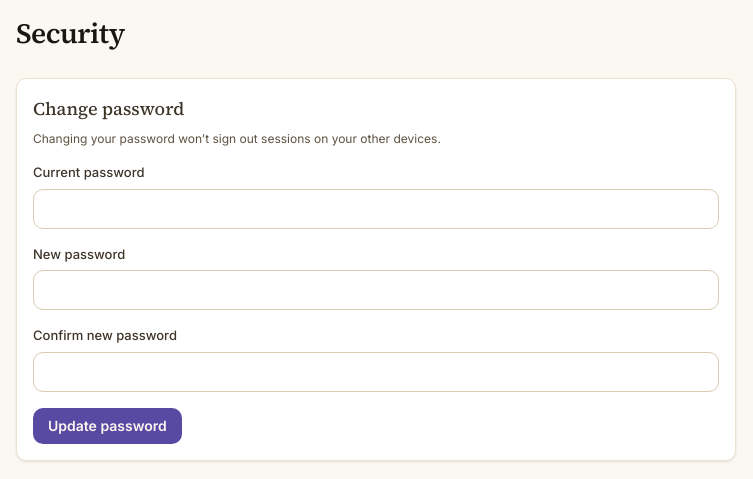
Test case: SecurityPage › happy path: verifies current then updates
In the password field named "current password": (376, 208) top-left (33, 188), bottom-right (719, 228), type "correctpw"
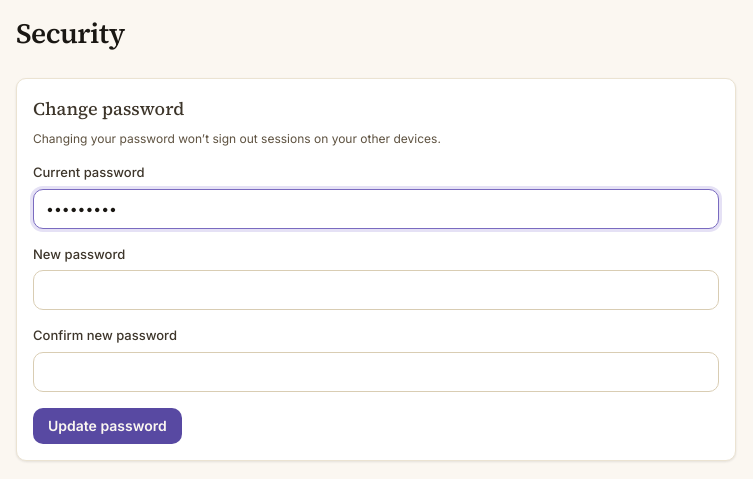
In the password field named "new password": (376, 290) top-left (33, 270), bottom-right (719, 310), type "newvalid1"
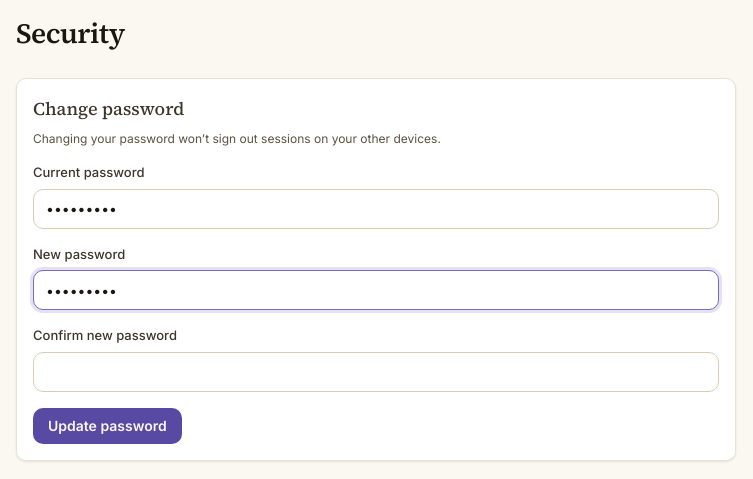
In the password field named "confirm new password": (376, 372) top-left (33, 352), bottom-right (719, 392), type "newvalid1"
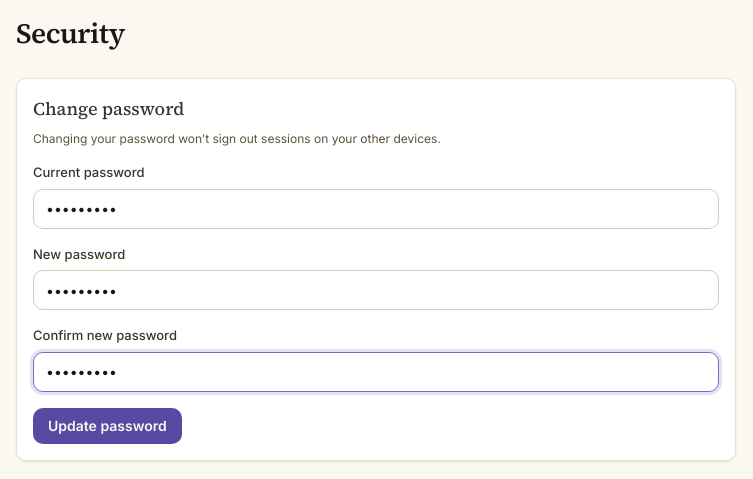
Click the button "Update password": (107, 426) top-left (33, 408), bottom-right (182, 444)
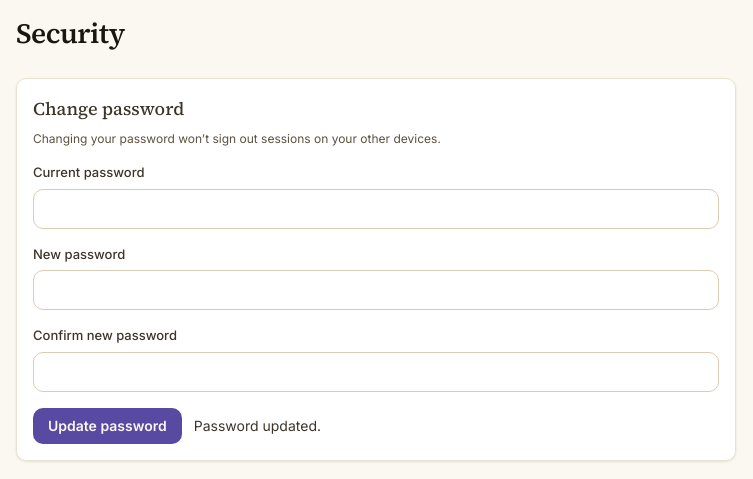
Result: the text "Password updated." is shown at top-left (194, 416), bottom-right (321, 434)
